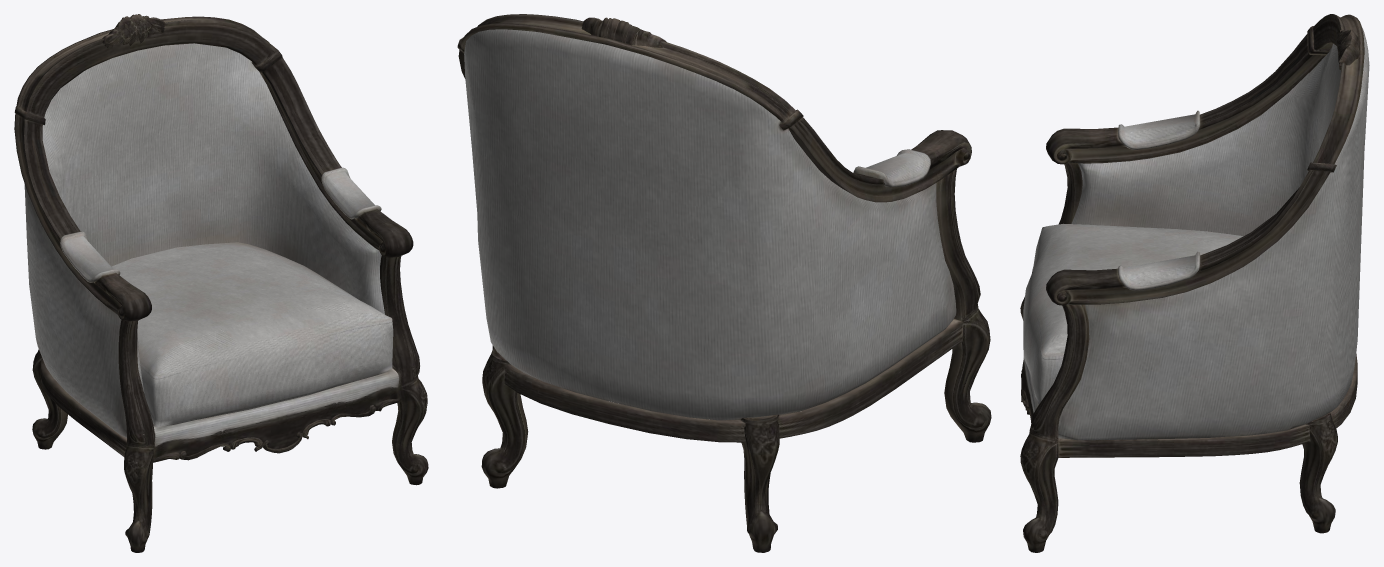
Rendered from armchair-bergere.glb.
The picture shows the model from 3 angles, left to right: view 1: azimuth 30°, elevation 25°; view 2: azimuth 150°, elevation 25°; view 3: azimuth 270°, elevation 25°; orthographic projection. The views are drawn at different scales.
Visible parts, largest first — view 1: armchair-bergere; view 2: armchair-bergere; view 3: armchair-bergere.
Part boxes in pixels (x1,y1,x2,y2): armchair-bergere: [14, 14, 428, 552]; armchair-bergere: [457, 14, 991, 552]; armchair-bergere: [1020, 14, 1369, 552].
Bounding box in the file's own units: 0.8484 × 1.07 × 0.7657.
2 materials, 2 textured.
